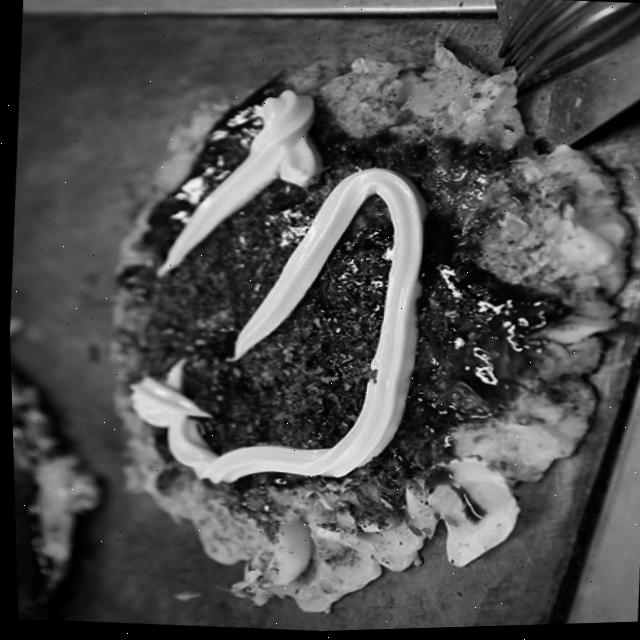蛋糕甜品: (64, 25, 640, 638)
